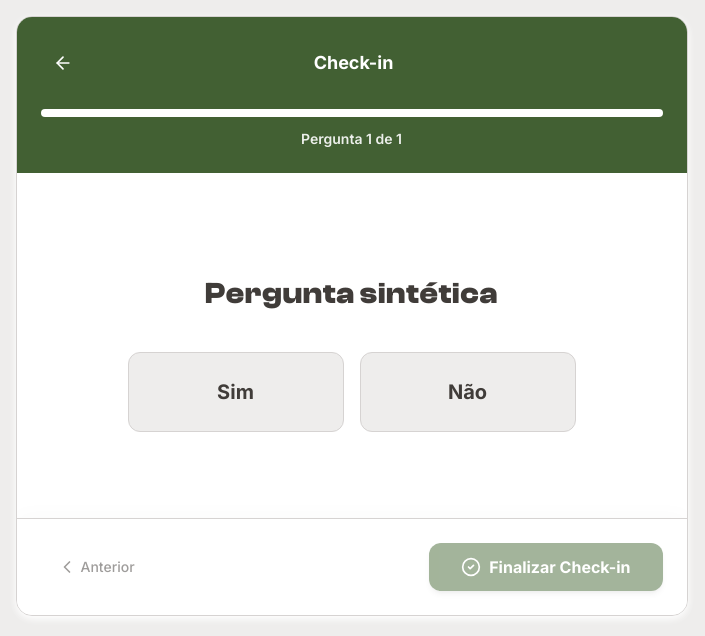
Test: truthful check-in lifecycle and explicit answers › renders a server-side expiry on submit as expiry, never success
Expected: the heading "Pergunta sintética" is shown, [205, 276, 498, 310]
Click the button "Sim" at [236, 392], box [128, 352, 344, 432]
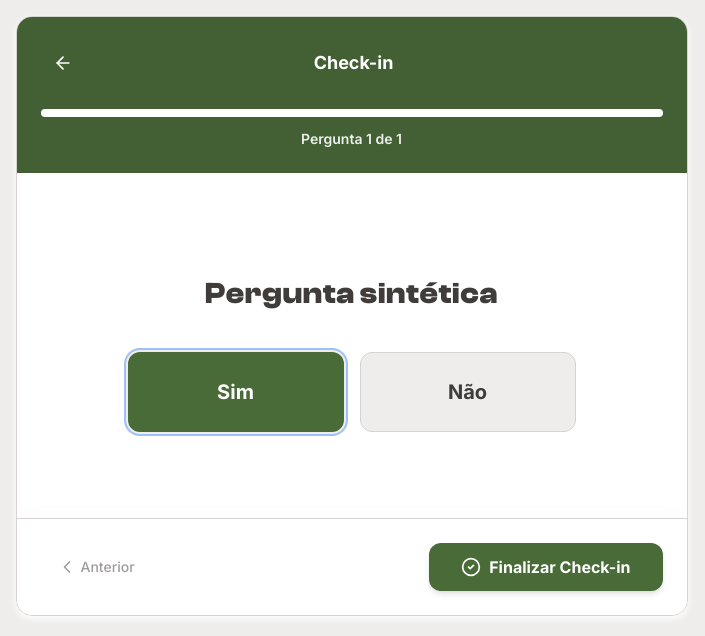
Click the button "Finalizar Check-in" at [546, 567], box [429, 543, 662, 591]
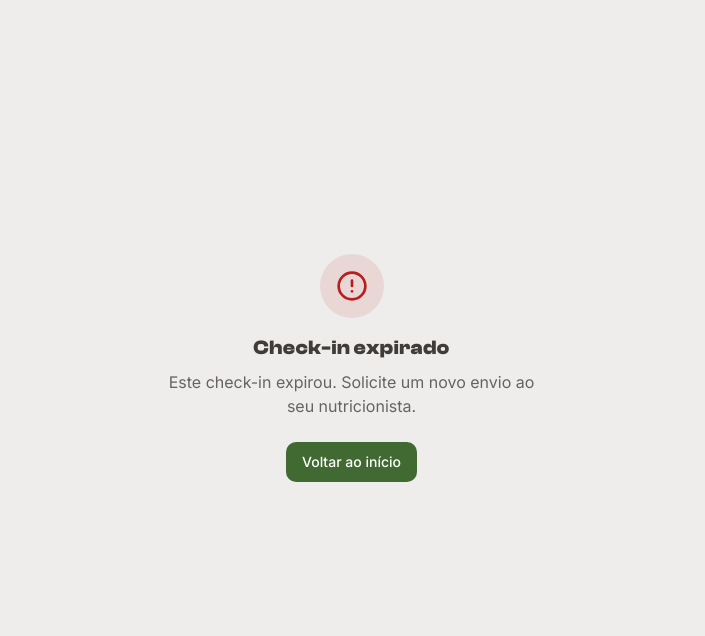
Now the text "Este check-in expirou" is shown, box [169, 372, 534, 416]
